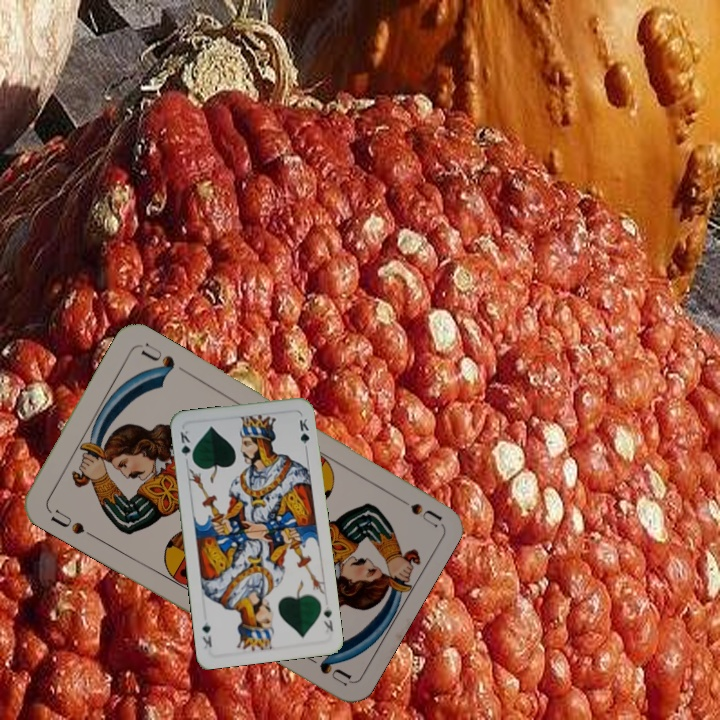GK: (176, 426, 196, 465), (319, 602, 336, 634)
SU: (387, 489, 443, 530), (46, 505, 97, 540)
